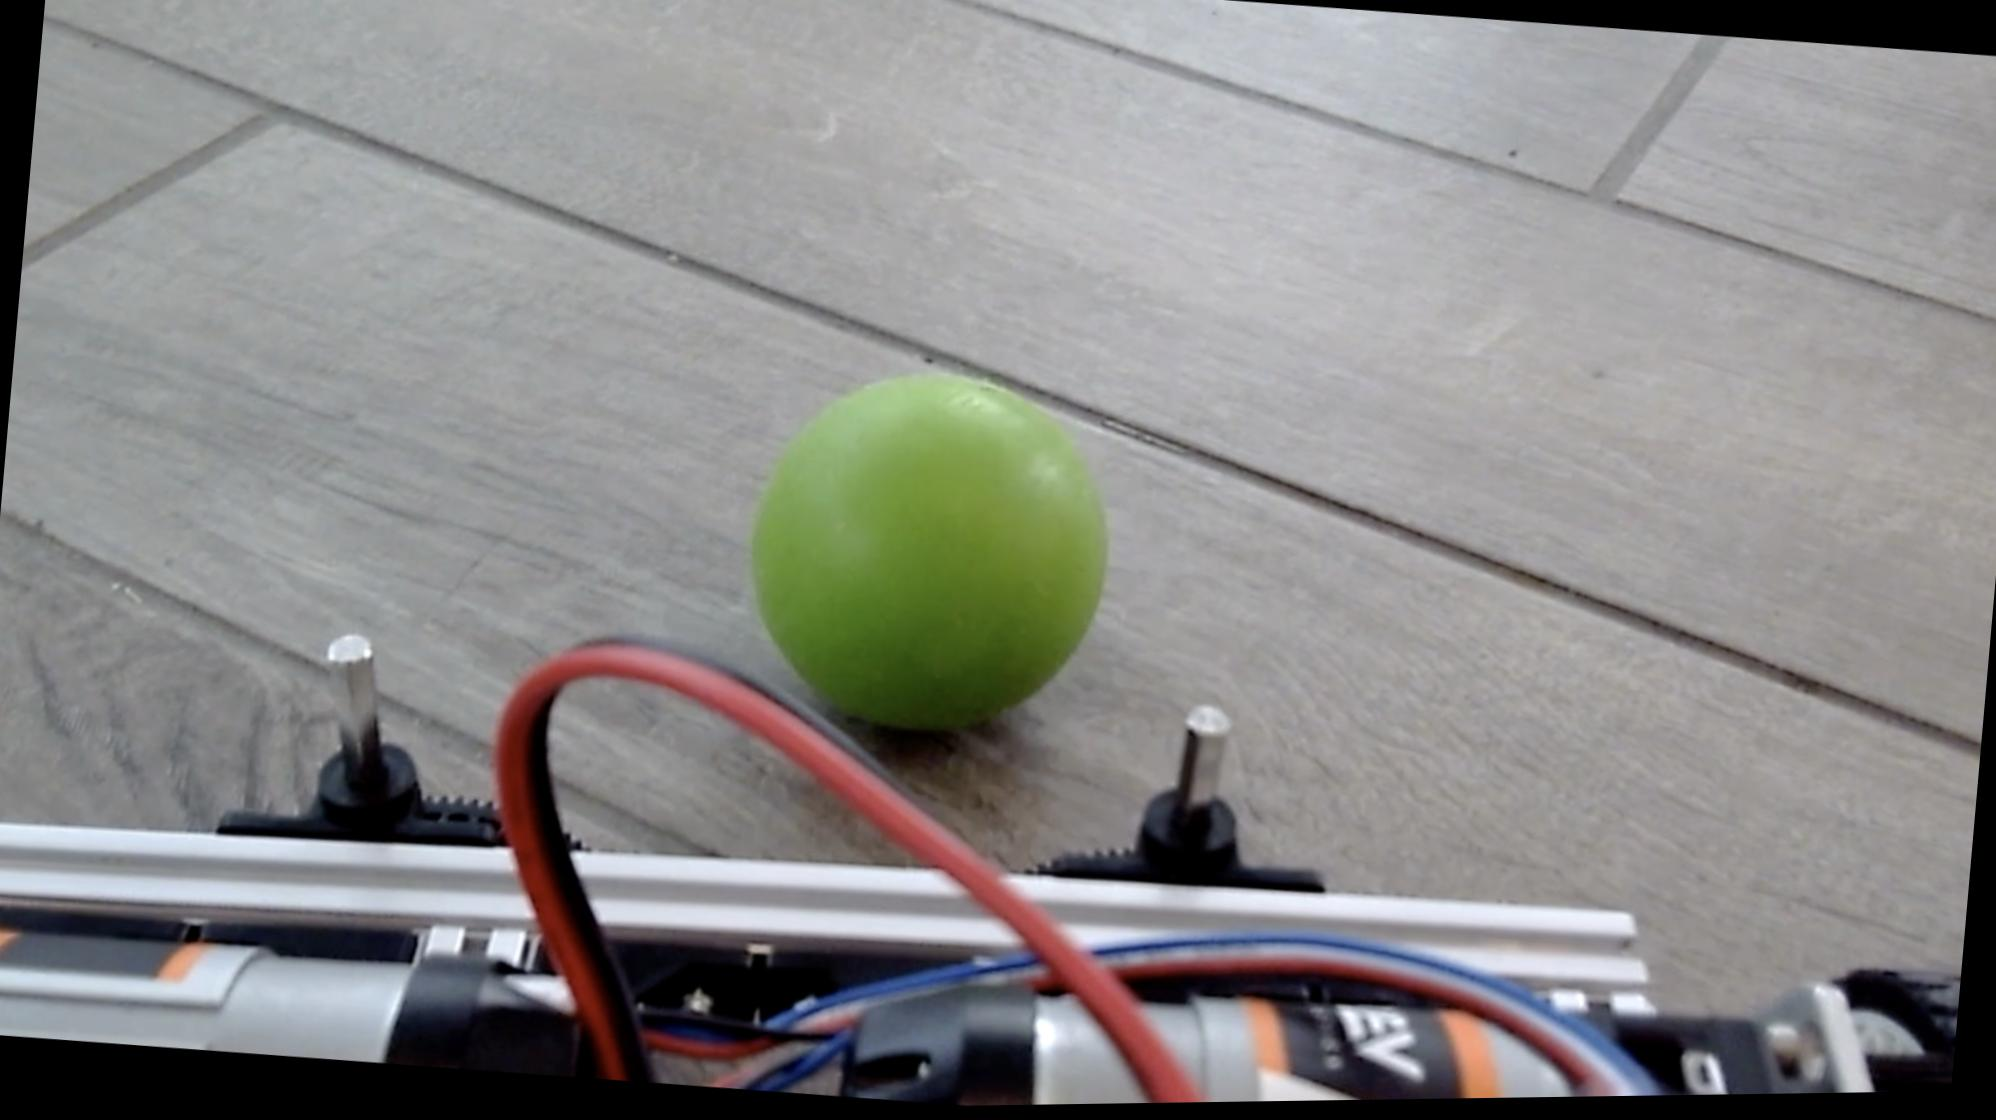greenball: (732, 354, 1125, 755)
